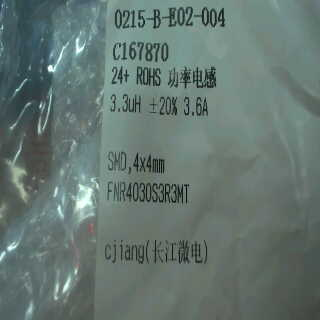3.3uH: (105, 89, 146, 121)
